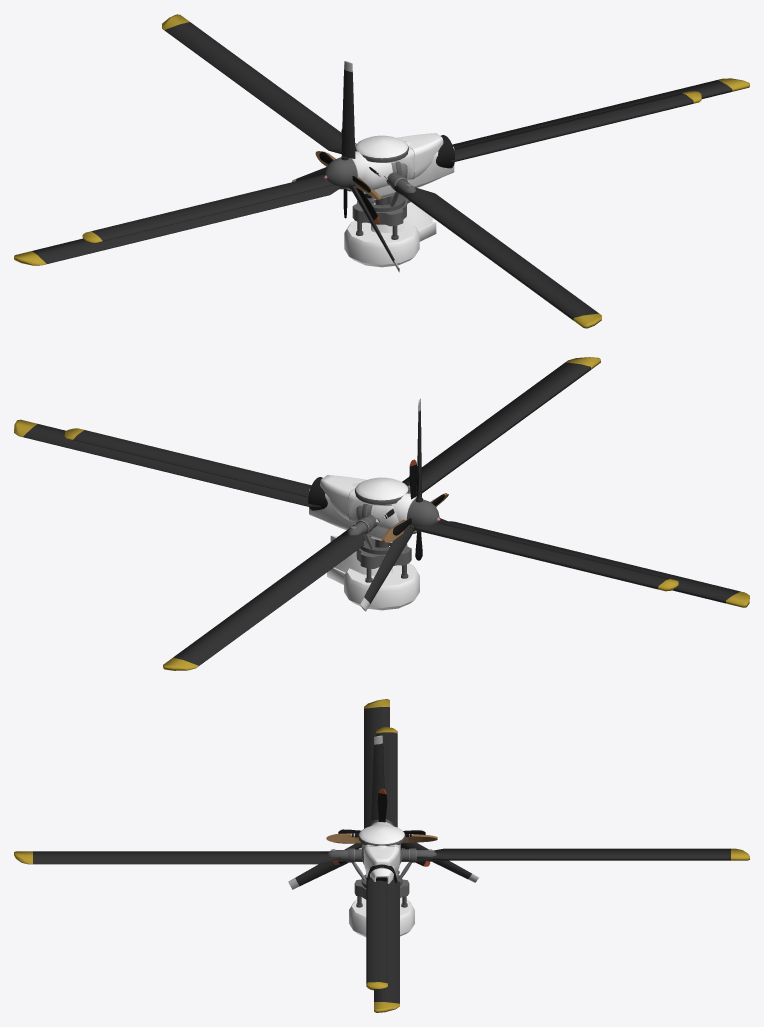
File: Parts_Engines.glb
3 renders of one model, top to bottom at view 1: azimuth 30°, elevation 25°; view 2: azimuth 150°, elevation 25°; view 3: azimuth 270°, elevation 25°, orthographic. The views are drawn at different scales.
Visible parts, largest first — view 1: HelicopterEngine__2, HelicopterEngine__0, HelicopterEngine__1, HelicopterEngineSmall__0, HelicopterEngine__8, HelicopterEngineSmall__1, HelicopterEngine__3, HelicopterEngine__7, HugePropEngine__0, HugePropEngine__4, SmallPropEngine__4, HelicopterEngineSmall__3 (+3 smaller); view 2: HelicopterEngine__0, HelicopterEngine__2, HelicopterEngineSmall__1, HelicopterEngineSmall__0, HelicopterEngine__3, HelicopterEngine__8, HelicopterEngine__1, HelicopterEngine__7, HugePropEngine__4, HugePropEngine__2, SmallPropEngine__4, HugePropEngine__3 (+2 smaller); view 3: HelicopterEngine__2, HelicopterEngine__0, HelicopterEngineSmall__0, HelicopterEngine__3, HelicopterEngine__8, HelicopterEngine__1, HelicopterEngineSmall__1, HugePropEngine__0, HelicopterEngine__4, SmallPropEngine__4, HugePropEngine__1, HelicopterEngine__7 (+1 smaller).
Part boxes in pixels (x1,y1,x2,y2): HelicopterEngine__2: (394,186,601,328); HelicopterEngine__0: (162,14,355,153); HelicopterEngine__1: (14,185,340,265); HelicopterEngineSmall__0: (451,91,701,162); HelicopterEngine__8: (344,135,419,267); HelicopterEngineSmall__1: (82,174,333,242); HelicopterEngine__3: (452,78,749,148); HelicopterEngine__7: (352,145,410,239); HugePropEngine__0: (341,61,355,160); HugePropEngine__4: (350,141,454,200); SmallPropEngine__4: (397,133,443,178); HelicopterEngineSmall__3: (371,202,436,241); HelicopterEngine__0: (163,525,363,670); HelicopterEngine__2: (402,357,600,495); HelicopterEngineSmall__1: (414,522,678,591); HelicopterEngineSmall__0: (64,428,311,497); HelicopterEngine__3: (14,419,321,507); HelicopterEngine__8: (344,477,419,610); HelicopterEngine__1: (438,521,749,607); HelicopterEngine__7: (355,488,411,582); HugePropEngine__4: (309,483,416,542); HugePropEngine__2: (360,525,414,611); SmallPropEngine__4: (320,475,366,520); HugePropEngine__3: (406,499,439,531); HelicopterEngine__2: (14,851,341,864); HelicopterEngine__0: (417,848,749,860); HelicopterEngineSmall__0: (366,877,387,990); HelicopterEngine__3: (374,877,399,1012); HelicopterEngine__8: (349,824,414,937); HelicopterEngine__1: (364,699,389,828); HelicopterEngineSmall__1: (376,727,397,827); HugePropEngine__0: (371,735,384,821); HelicopterEngine__4: (327,848,436,862); SmallPropEngine__4: (364,846,399,872); HugePropEngine__1: (288,843,362,889); HelicopterEngine__7: (354,833,409,907).
Bounding box in the file's own units: 19.01 × 5.02 × 19.01.
Materials: 73 (55 with a texture image).
